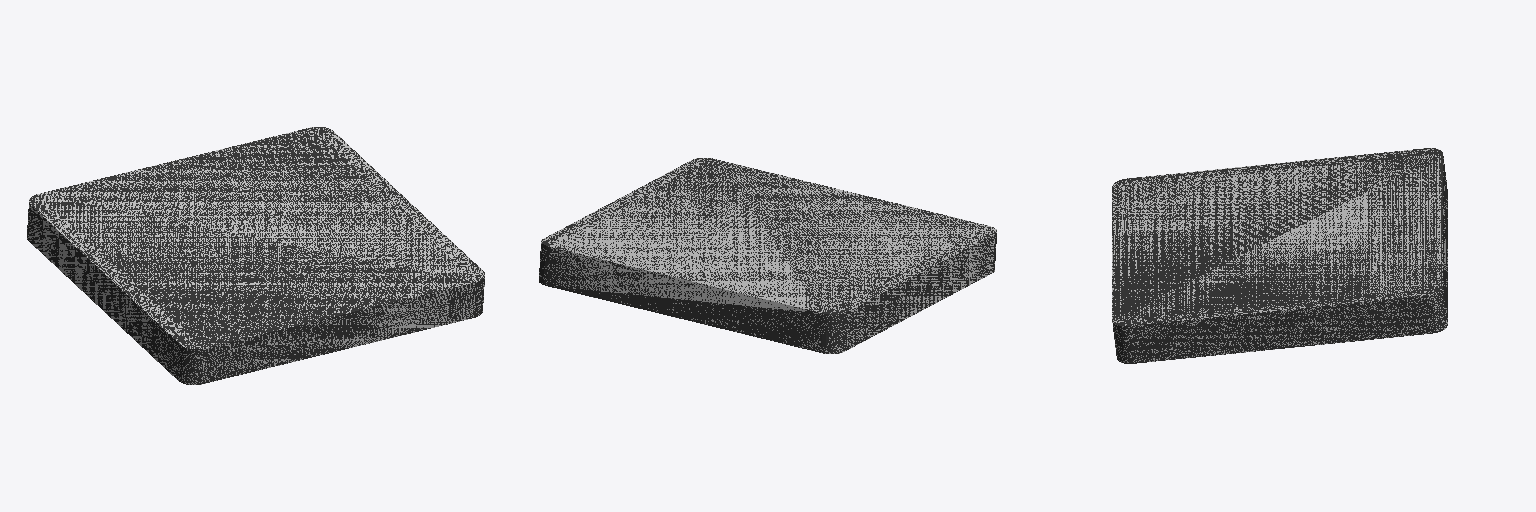
Rendered from original-32.obj.
3 views of the same model, side by side, from view 1: azimuth 30°, elevation 25°; view 2: azimuth 150°, elevation 25°; view 3: azimuth 270°, elevation 25° (orthographic).
Visible parts, largest first — view 1: mesh31/mesh31-geometry#mesh31-geometry; view 2: mesh31/mesh31-geometry#mesh31-geometry; view 3: mesh31/mesh31-geometry#mesh31-geometry.
Boxes of the visible parts, x1,y1,x2,y2 form: mesh31/mesh31-geometry#mesh31-geometry: [27, 127, 484, 384]; mesh31/mesh31-geometry#mesh31-geometry: [539, 158, 996, 353]; mesh31/mesh31-geometry#mesh31-geometry: [1112, 148, 1447, 363].
Bounding box in the file's own units: 0.1061 × 0.0238 × 0.1019.